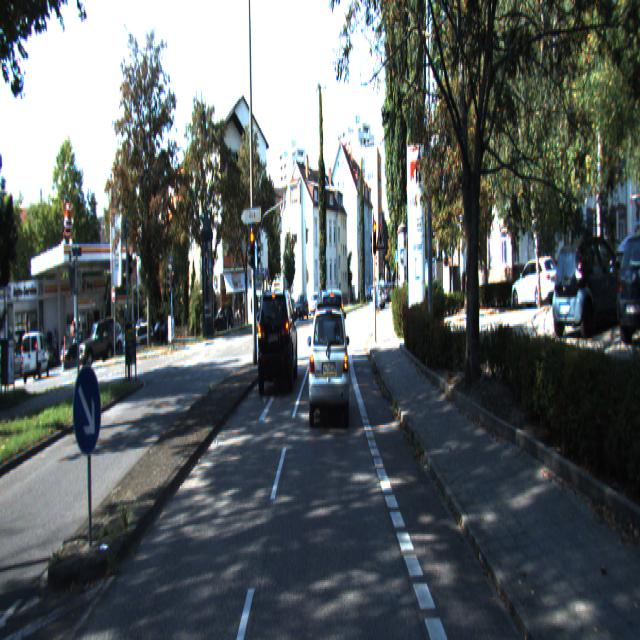Car: (552, 231, 638, 339), (308, 302, 349, 423), (257, 290, 297, 394), (614, 228, 640, 349), (319, 289, 347, 373)
